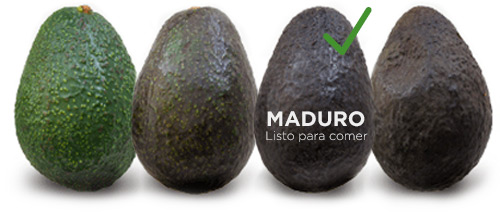fit_avocado: (264, 7, 374, 190), (140, 6, 245, 187)
unfit_avocado: (22, 5, 139, 187), (376, 8, 483, 183)
